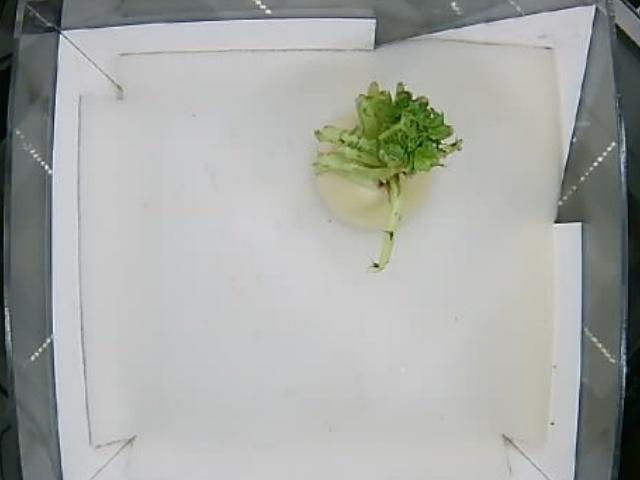Mooli: (312, 82, 462, 270)
